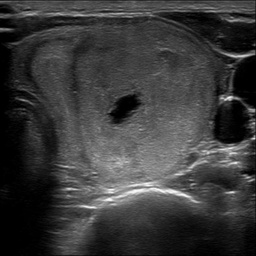mass: (29, 26, 206, 181)
